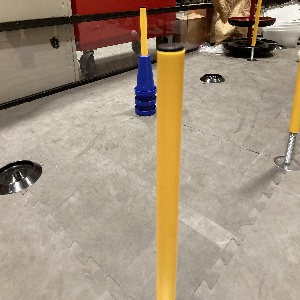Blue_3: (133, 52, 155, 116)
